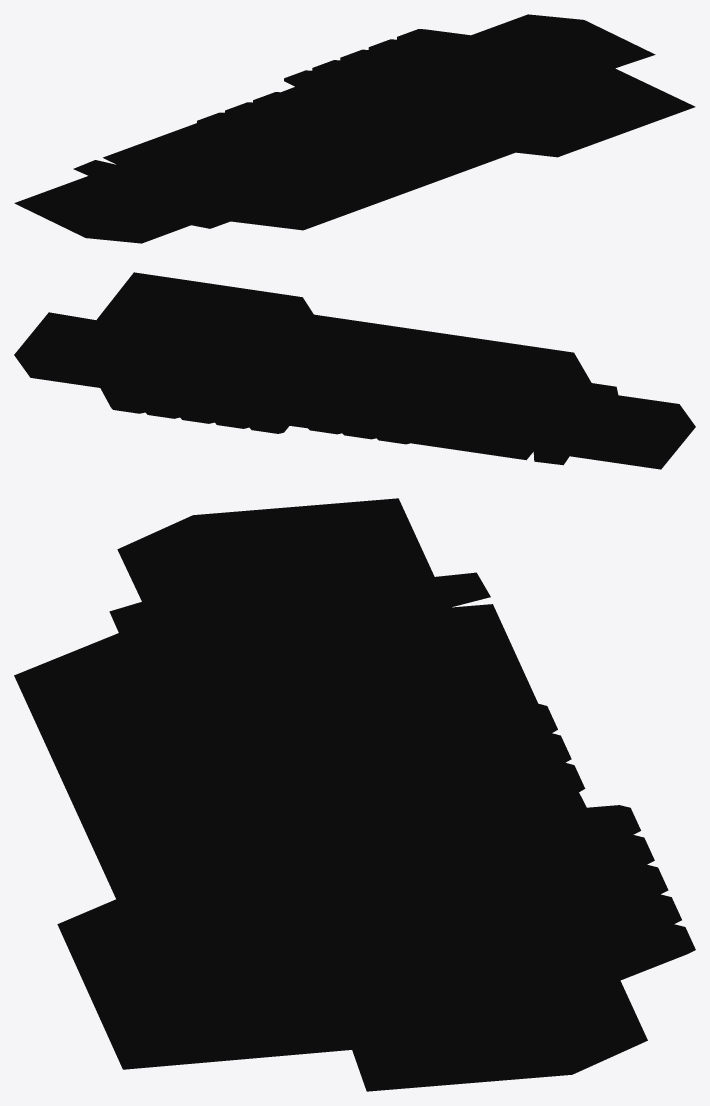
3 renders of one model, top to bottom at view 1: azimuth 30°, elevation 25°; view 2: azimuth 150°, elevation 25°; view 3: azimuth 270°, elevation 25°, orthographic. The views are drawn at different scales.
Parts seen in each view (by area): view 1: Joint_0_Object_0; view 2: Joint_0_Object_0; view 3: Joint_0_Object_0.
Part boxes in pixels (x1,y1,x2,y2): Joint_0_Object_0: (14, 14, 695, 243); Joint_0_Object_0: (14, 272, 695, 469); Joint_0_Object_0: (14, 498, 695, 1091).
Size of the model in its own units: 1407 by 0 by 684.
Materials: 1 (1 with a texture image).
